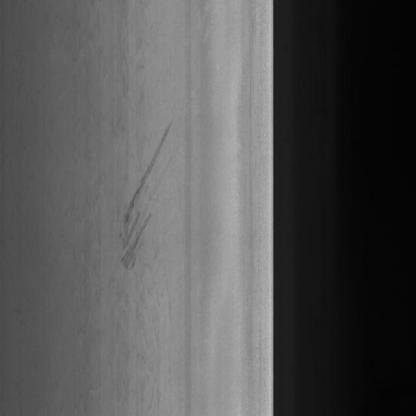silk_spot: (9, 46, 104, 350)
water_spot: (112, 122, 172, 280)
